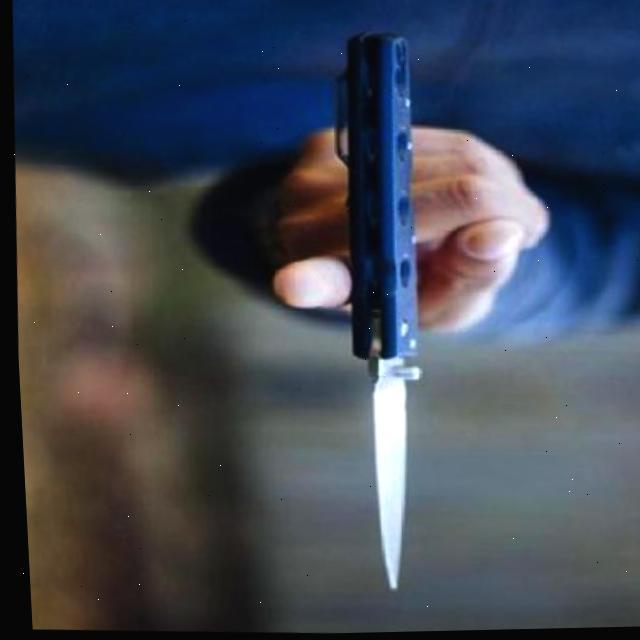knife: (325, 31, 436, 592)
